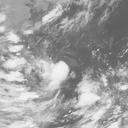cyclone: (38, 59, 72, 90)
